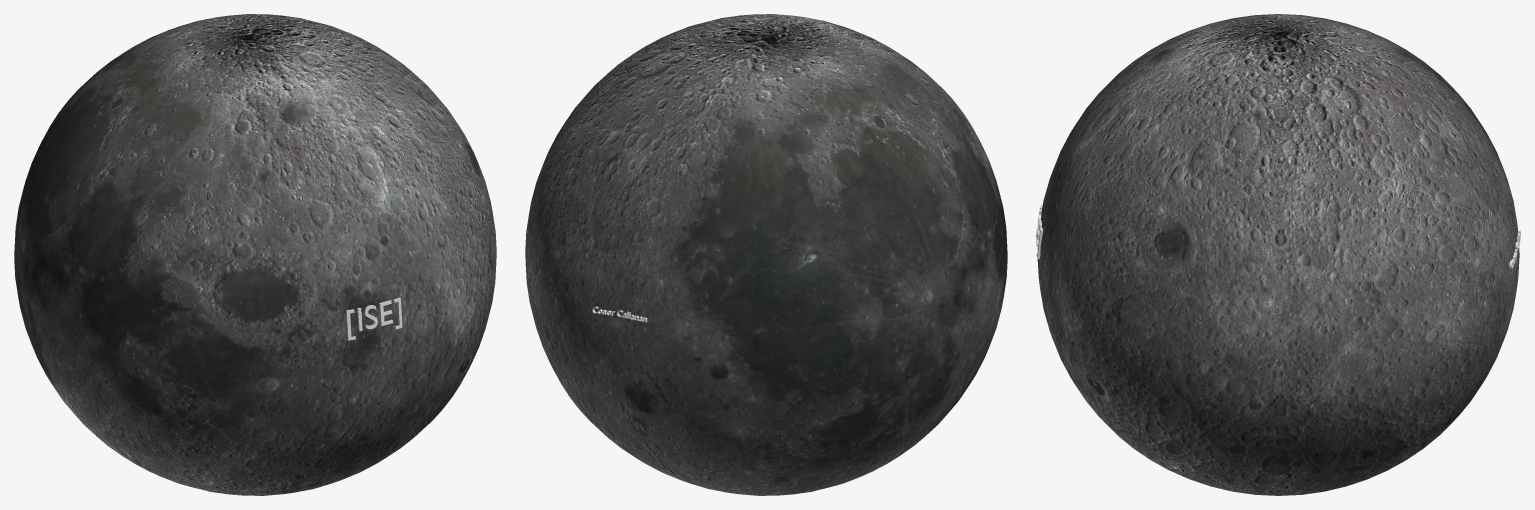
Rendered from moon_old.glb.
The picture shows the model from 3 angles, left to right: view 1: azimuth 30°, elevation 25°; view 2: azimuth 150°, elevation 25°; view 3: azimuth 270°, elevation 25°; orthographic projection.
Visible parts, largest first — view 1: Cube.008, [ISE]; view 2: Cube.008; view 3: Cube.008.
Part boxes in pixels (<box>): Cube.008: <box>14,14,496,495</box>; [ISE]: <box>346,297,402,340</box>; Cube.008: <box>525,14,1007,495</box>; Cube.008: <box>1037,14,1519,495</box>.
Bounding box in the file's own units: 109 × 109 × 110.
1 material, 1 textured.
